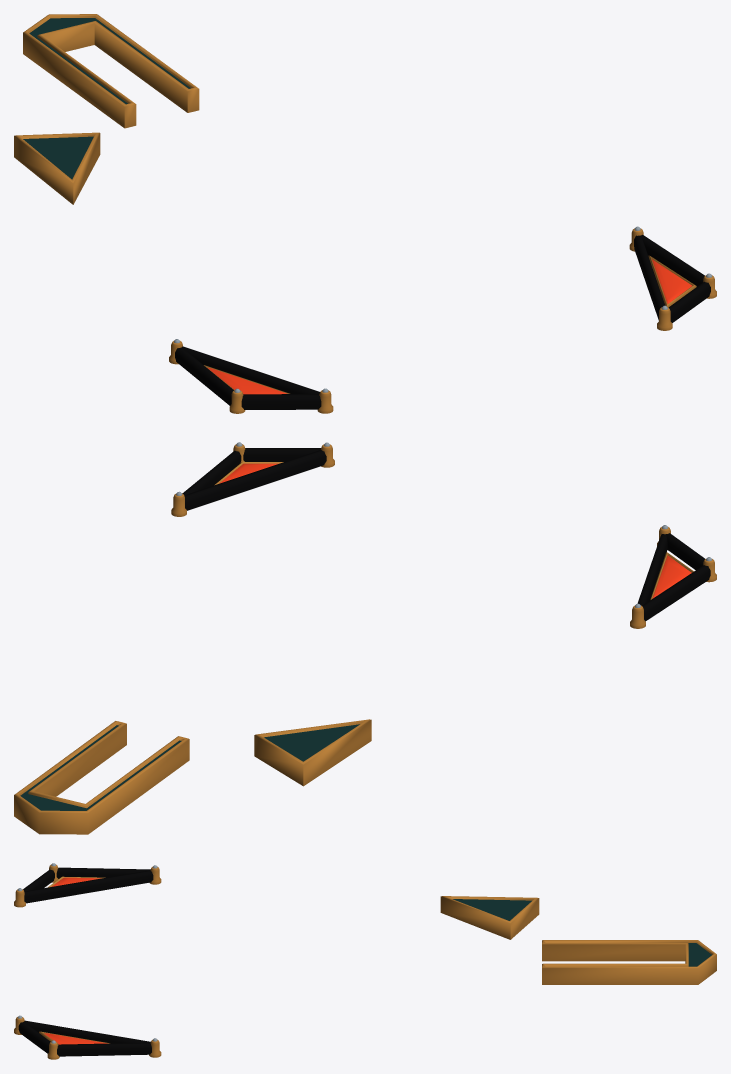
Rendered from meridian-plastics.dae.
3 renders of one model, top to bottom at view 1: azimuth 30°, elevation 25°; view 2: azimuth 150°, elevation 25°; view 3: azimuth 270°, elevation 25°, orthographic. The views are drawn at different scales.
Parts seen in each view (by area): view 1: accent, black_rubber, block_art, sling_lens; view 2: accent, black_rubber, block_art, sling_lens; view 3: accent, black_rubber, block_art, sling_lens.
Boxes of the visible parts, <box> form: accent: <box>14,14,716,413</box>; black_rubber: <box>175,234,710,409</box>; block_art: <box>23,18,190,179</box>; sling_lens: <box>207,259,691,394</box>; accent: <box>14,444,716,834</box>; black_rubber: <box>182,448,710,621</box>; block_art: <box>20,724,359,810</box>; sling_lens: <box>219,463,691,598</box>; accent: <box>14,864,716,1059</box>; black_rubber: <box>18,867,153,1056</box>; block_art: <box>453,899,711,966</box>; sling_lens: <box>44,877,107,1044</box>.
Size of the model in its own units: 0.6166 by 0.0272 by 1.
